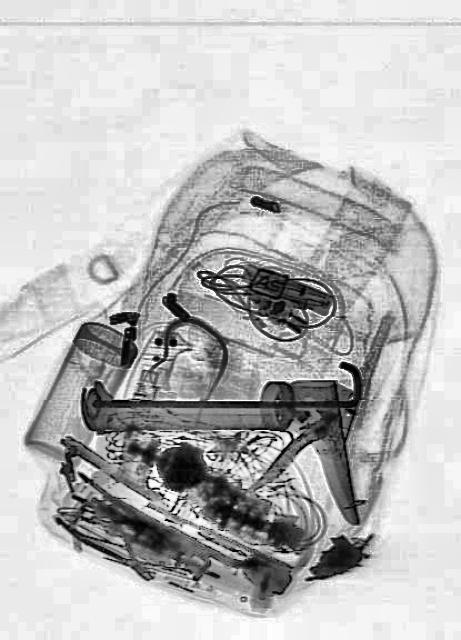Pliers: (54, 477, 164, 597)
